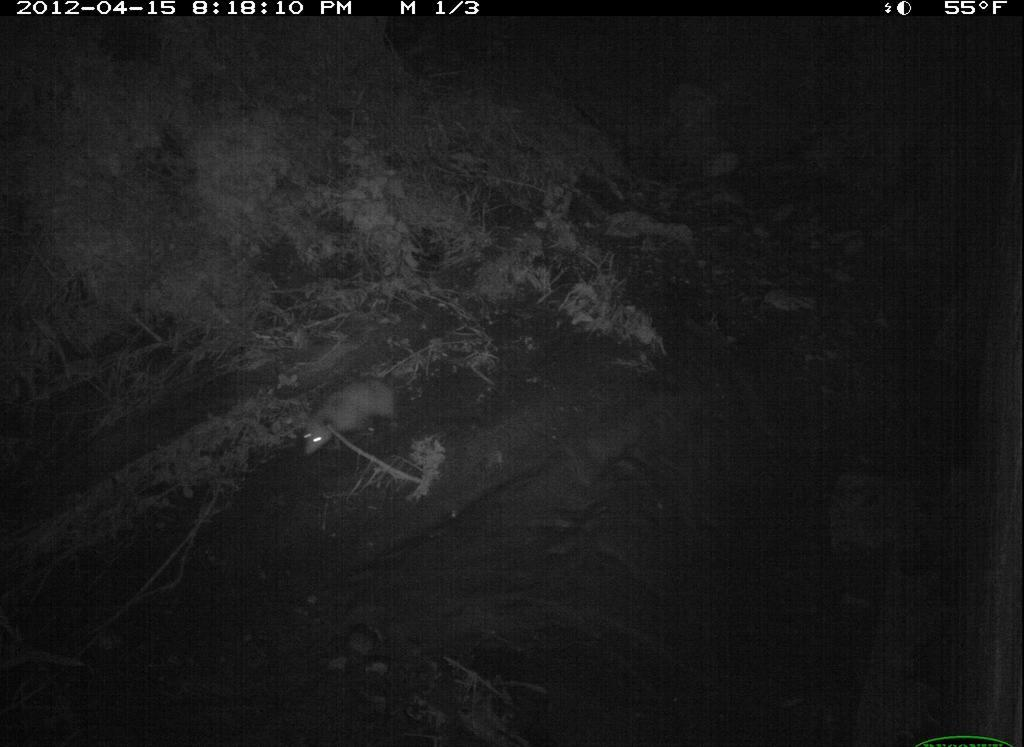opossum: (292, 364, 431, 466)
